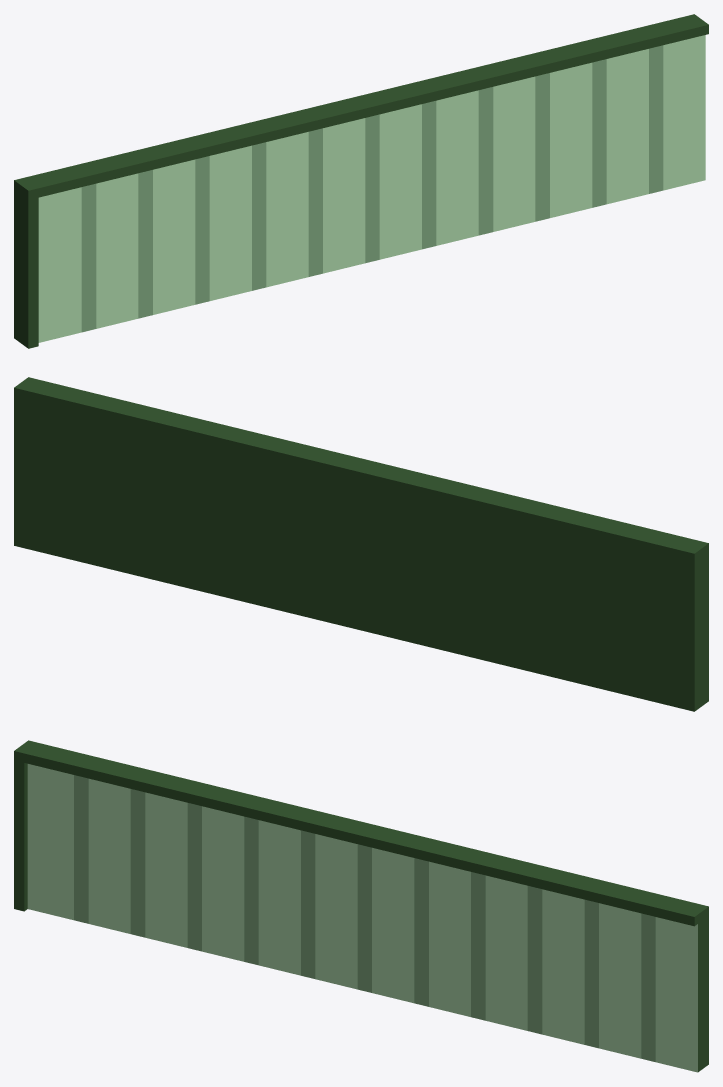
File: Left_Wall_House.fbx
The picture shows the model from 3 angles, top to bottom: view 1: azimuth 30°, elevation 25°; view 2: azimuth 150°, elevation 25°; view 3: azimuth 330°, elevation 25°; orthographic projection.
Visible parts, largest first — view 1: Left_Wall; view 2: Left_Wall; view 3: Left_Wall.
Part boxes in pixels (<box>): Left_Wall: <box>14,14,708,348</box>; Left_Wall: <box>14,377,708,711</box>; Left_Wall: <box>14,740,708,1072</box>.
Size of the model in its own units: 9.01 by 2 by 0.3315.
